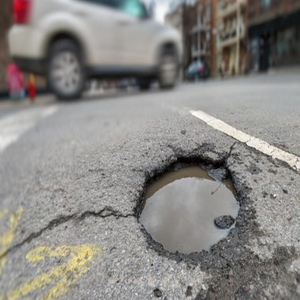pothole: (136, 150, 250, 259)
